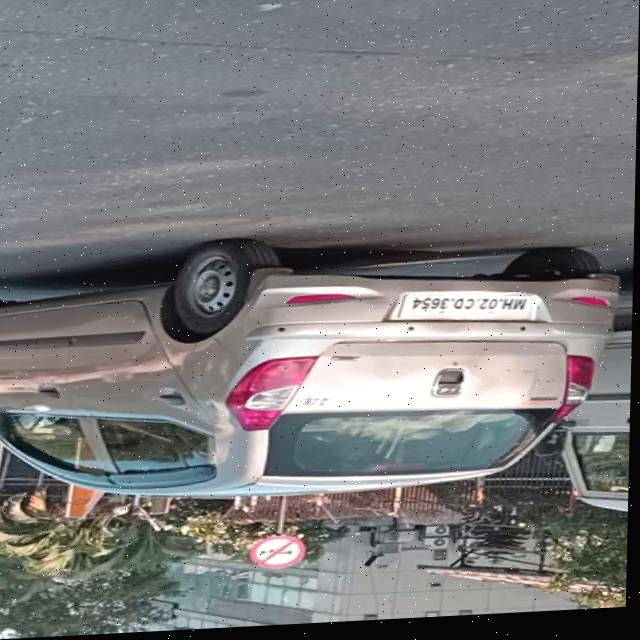plate: (398, 292, 539, 335)
